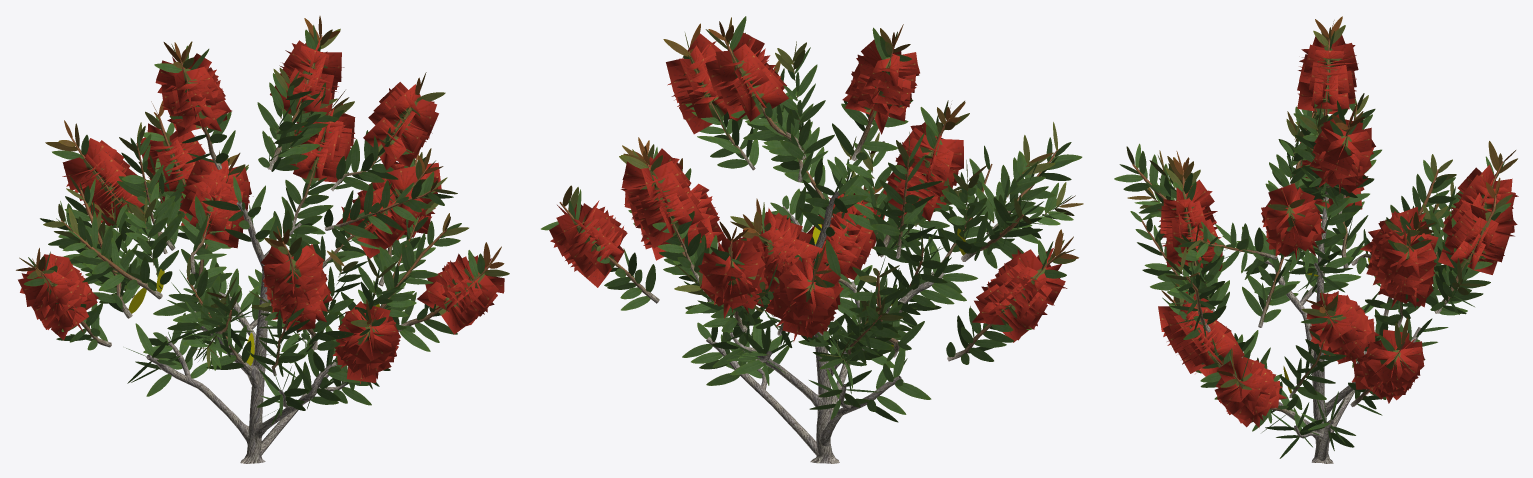
Rendered from ohia_shrub.glb.
3 views of the same model, side by side, from view 1: azimuth 30°, elevation 25°; view 2: azimuth 150°, elevation 25°; view 3: azimuth 270°, elevation 25° (orthographic). The views are drawn at different scales.
Visible parts, largest first — view 1: Callistemon_laevis_HD; view 2: Callistemon_laevis_HD; view 3: Callistemon_laevis_HD.
Part boxes in pixels (box(x1,y1,x2,y2)): Callistemon_laevis_HD: box(16, 16, 509, 463); Callistemon_laevis_HD: box(541, 16, 1083, 463); Callistemon_laevis_HD: box(1114, 16, 1518, 463).
Bounding box in the file's own units: 0.7516 × 0.6694 × 0.5983.
9 materials, 9 textured.
